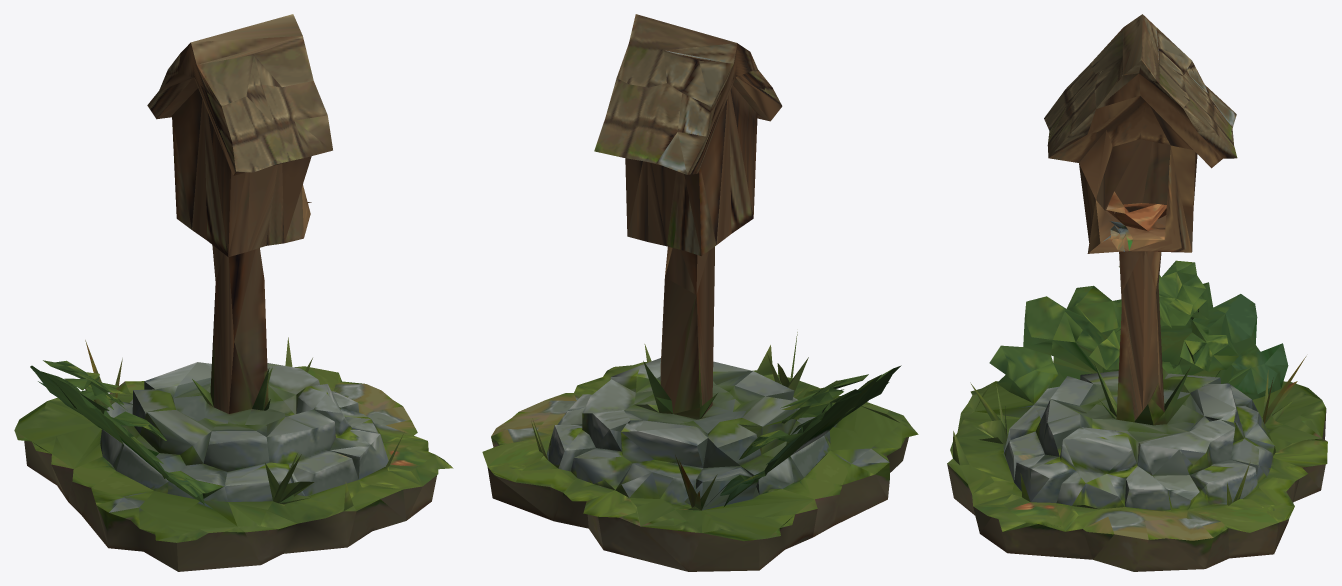
3 renders of one model, left to right at view 1: azimuth 30°, elevation 25°; view 2: azimuth 150°, elevation 25°; view 3: azimuth 270°, elevation 25°, orthographic.
Parts seen in each view (by area): view 1: wayside_shrine; view 2: wayside_shrine; view 3: wayside_shrine.
Boxes of the visible parts, box(x1,y1,x2,y2) form: wayside_shrine: box(14, 14, 453, 571); wayside_shrine: box(482, 14, 918, 571); wayside_shrine: box(947, 14, 1327, 571).
Bounding box in the file's own units: 0.7666 × 0.9771 × 0.7354.
Materials: 1 (1 with a texture image).
